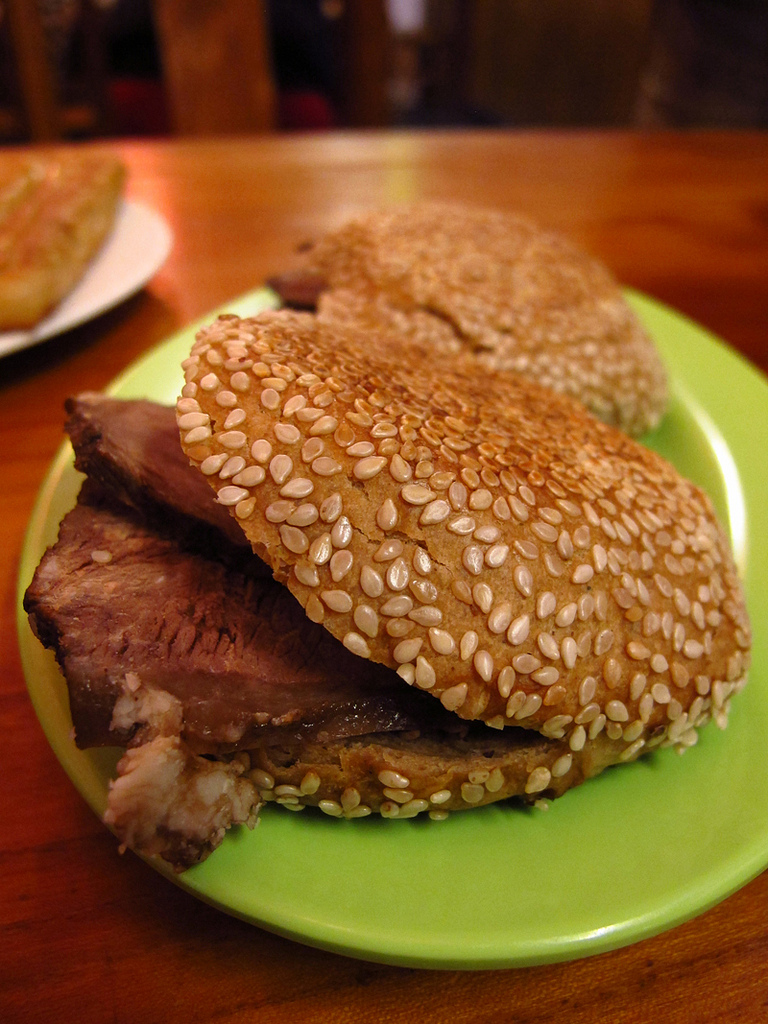slice of bread: (189, 294, 733, 730), (294, 189, 669, 438)
